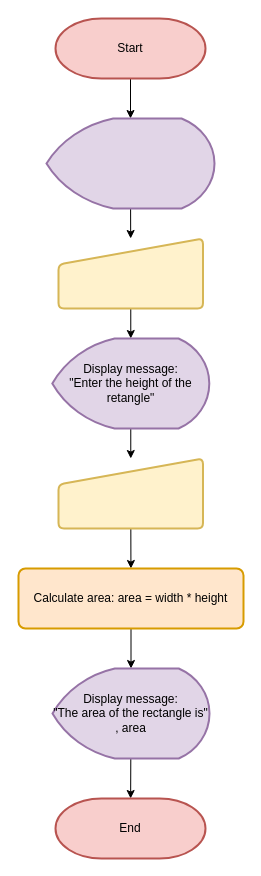
Some shapes in this 261 by 876 pixel diagram are drawn without their labels. Each missing label, with the centre of its shape:
Display message: "Enter the width of the retangle": pixel 130 163
Read height input: pixel 130 493
Read width input: pixel 130 273
